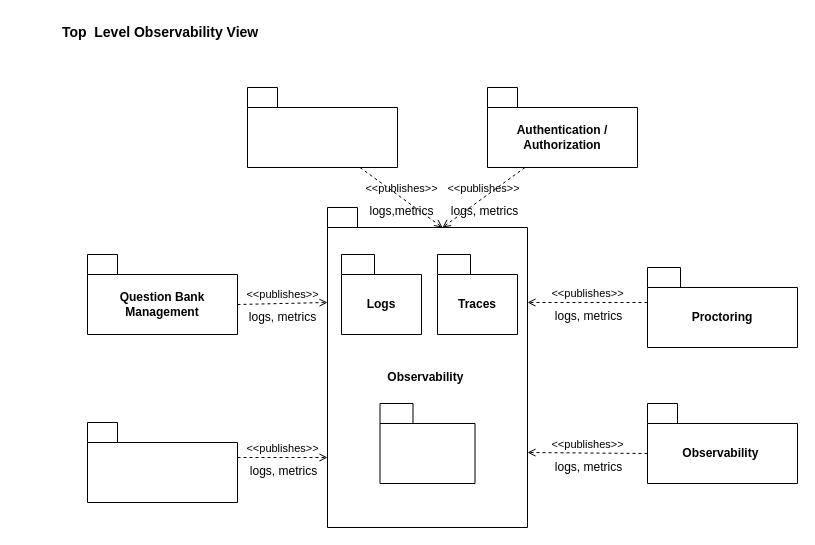
Some shapes in this 815 by 545 pixel diagram are drawn without their labels. Here are the shapes that lost their labels. From the top down, the centre of each, then its label:
At pixel 322 127: "User management".
At pixel 162 462: "Test Generation".
At pixel 427 443: "Metrics".
